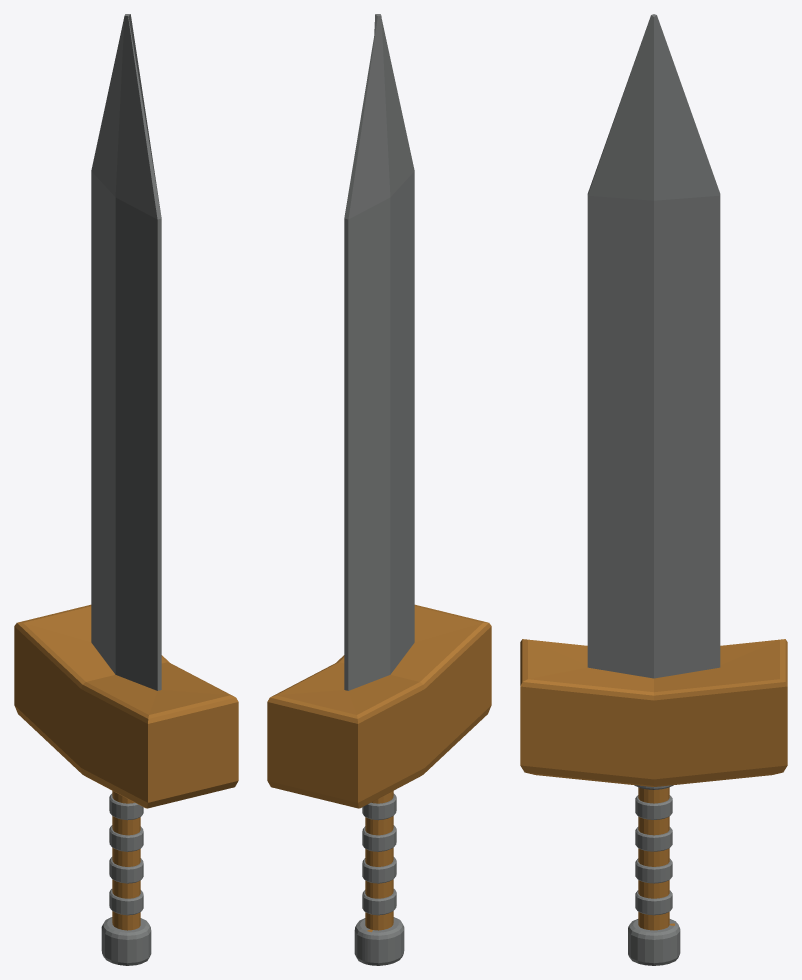
The model's file is KılıcLevel3.fbx.
The picture shows the model from 3 angles, left to right: view 1: azimuth 30°, elevation 25°; view 2: azimuth 150°, elevation 25°; view 3: azimuth 270°, elevation 25°; orthographic projection.
Parts seen in each view (by area): view 1: KılıcLevel3; view 2: KılıcLevel3; view 3: KılıcLevel3.
Boxes of the visible parts, x1,y1,x2,y2 form: KılıcLevel3: (14, 14, 238, 965); KılıcLevel3: (267, 14, 491, 965); KılıcLevel3: (520, 14, 787, 965).
Bounding box in the file's own units: 20 × 198 × 51.02.
